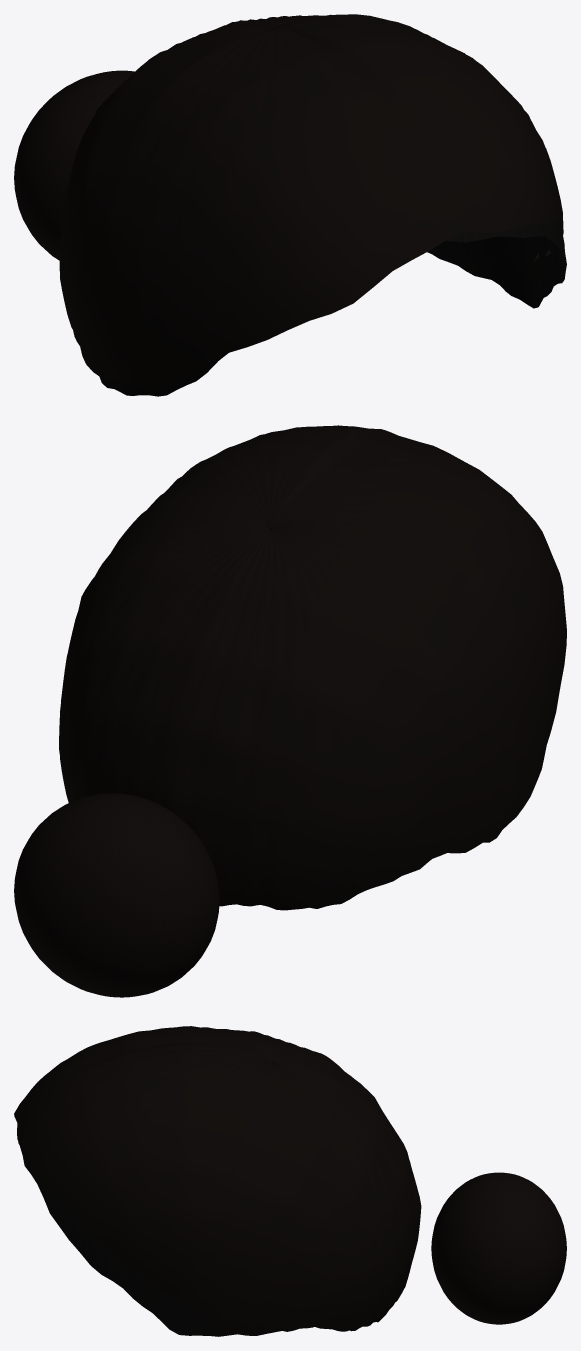
Rendered from studio-hair.glb.
3 renders of one model, top to bottom at view 1: azimuth 30°, elevation 25°; view 2: azimuth 150°, elevation 25°; view 3: azimuth 270°, elevation 25°, orthographic. The views are drawn at different scales.
Parts seen in each view (by area): view 1: HairNova, HairAtlas; view 2: HairNova, HairAtlas; view 3: HairNova, HairAtlas.
Part boxes in pixels (<box>): HairNova: <box>14,14,563,386</box>; HairAtlas: <box>99,220,566,396</box>; HairNova: <box>14,425,566,997</box>; HairAtlas: <box>259,526,546,908</box>; HairNova: <box>14,1026,566,1332</box>; HairAtlas: <box>17,1061,348,1336</box>.
Bounding box in the file's own units: 0.1736 × 0.1527 × 0.2772.
3 materials, 3 textured.
